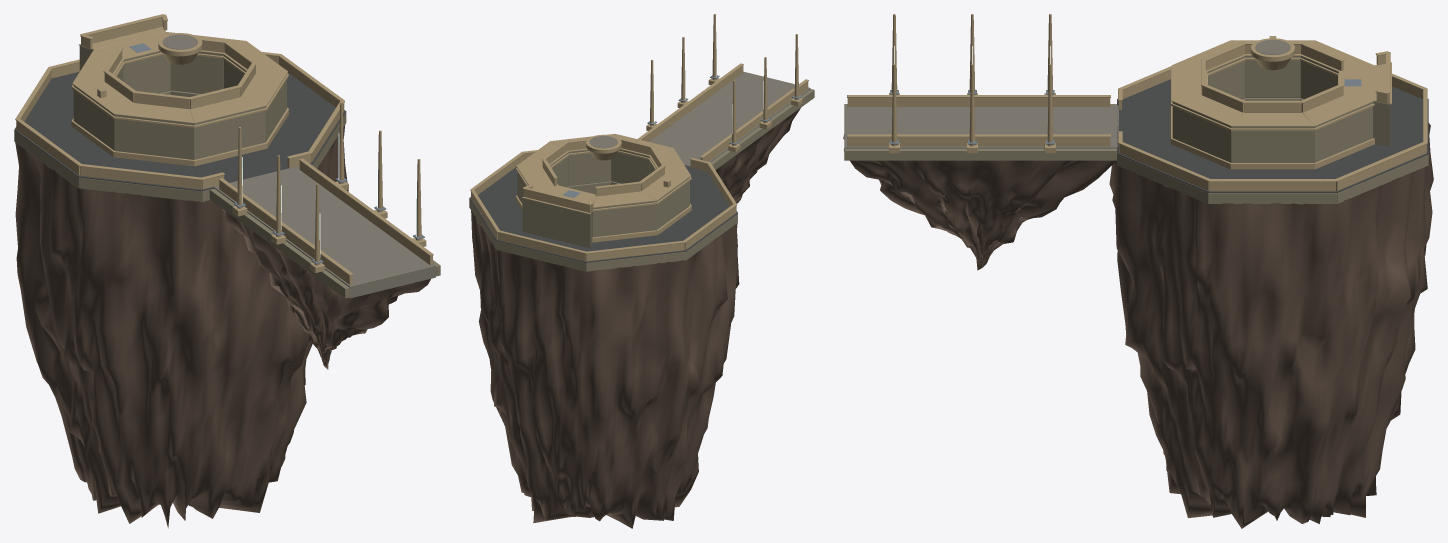
The model's file is g_heart.glb.
The picture shows the model from 3 angles, left to right: view 1: azimuth 30°, elevation 25°; view 2: azimuth 150°, elevation 25°; view 3: azimuth 270°, elevation 25°; orthographic projection. The views are drawn at different scales.
Visible parts, largest first — view 1: island_g_heart; view 2: island_g_heart; view 3: island_g_heart.
Boxes of the visible parts, bbox=[...] form: island_g_heart: bbox=[14, 14, 440, 528]; island_g_heart: bbox=[469, 14, 814, 528]; island_g_heart: bbox=[843, 14, 1433, 528].
Size of the model in its own units: 29.63 by 46.34 by 53.07.
